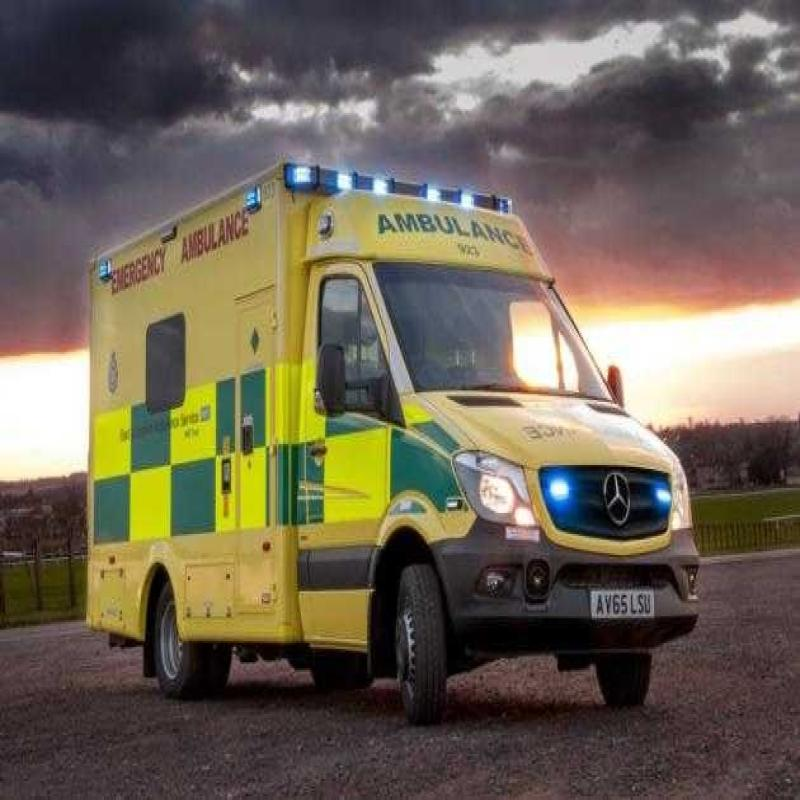AmbulanceSiren: (278, 136, 544, 236)
